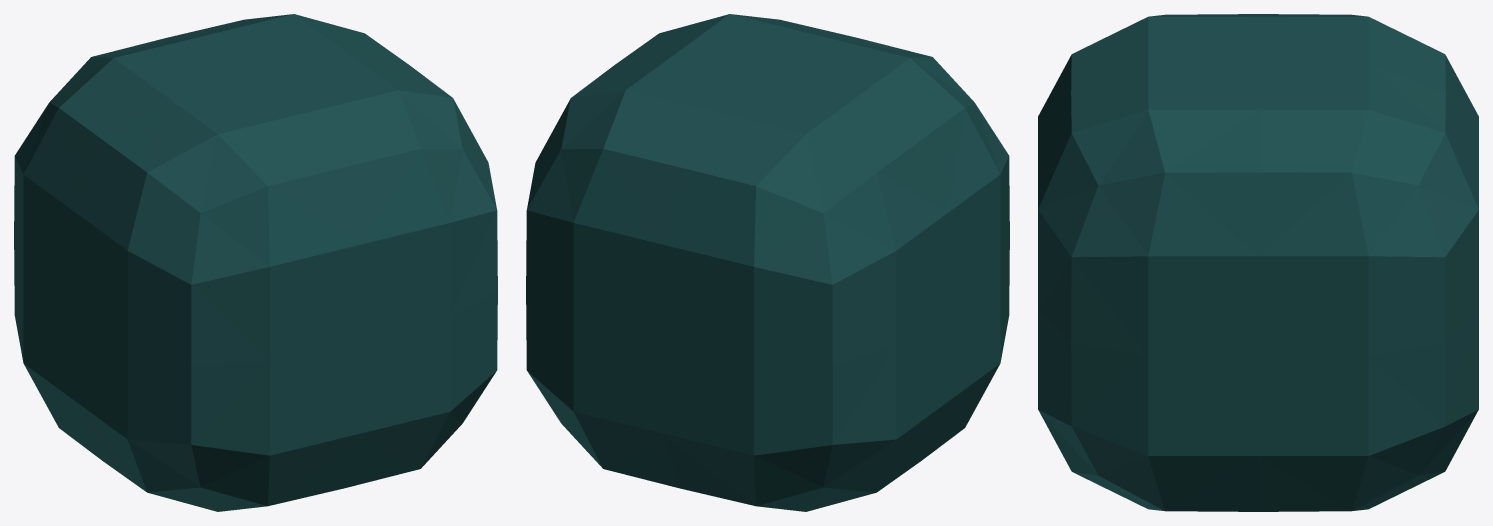
The model's file is aRA.obj.
The picture shows the model from 3 angles, left to right: view 1: azimuth 30°, elevation 25°; view 2: azimuth 150°, elevation 25°; view 3: azimuth 270°, elevation 25°; orthographic projection. The views are drawn at different scales.
Visible parts, largest first — view 1: 立方体; view 2: 立方体; view 3: 立方体.
Boxes of the visible parts, x1,y1,x2,y2 form: 立方体: [14, 14, 497, 511]; 立方体: [526, 14, 1009, 511]; 立方体: [1038, 14, 1478, 511].
Size of the model in its own units: 0.4 by 0.4 by 0.4.
